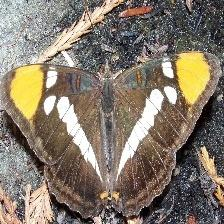butterfly: (1, 53, 221, 220)
